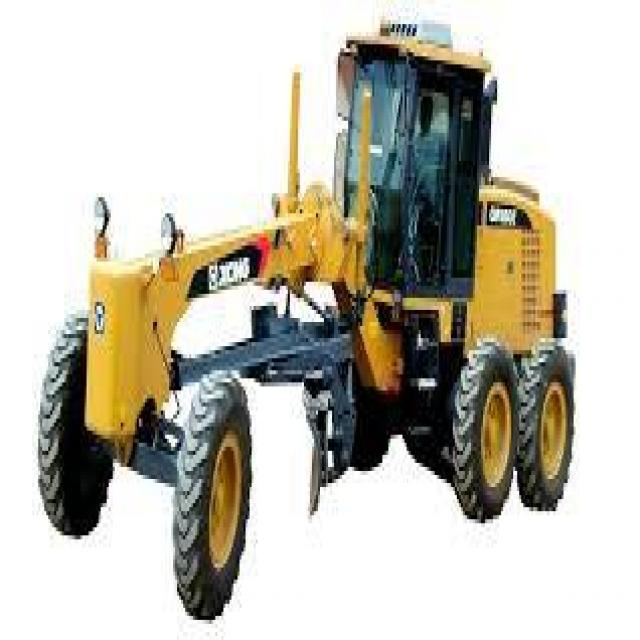Grader: (26, 32, 594, 620)
